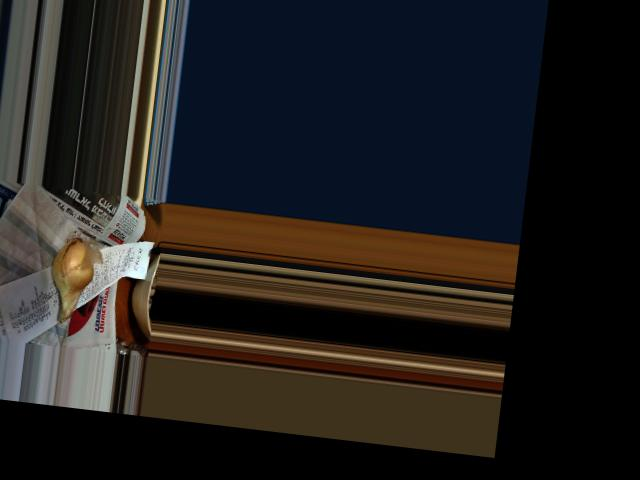onion: (46, 234, 98, 316)
